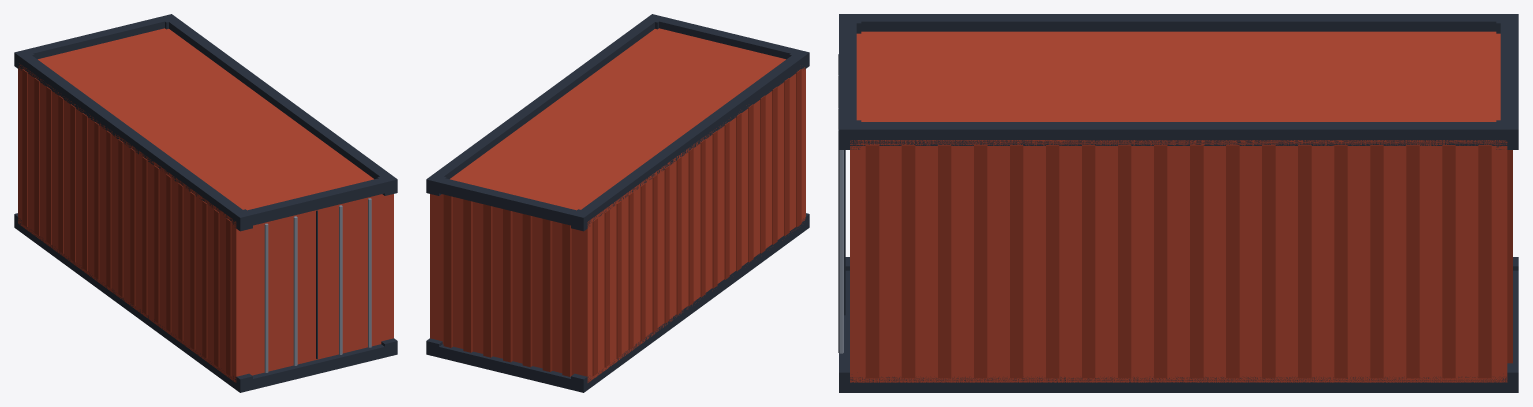
Rendered from container_red.glb.
3 views of the same model, side by side, from view 1: azimuth 30°, elevation 25°; view 2: azimuth 150°, elevation 25°; view 3: azimuth 270°, elevation 25° (orthographic). The views are drawn at different scales.
Parts seen in each view (by area): view 1: container; view 2: container; view 3: container.
Boxes of the visible parts, x1,y1,x2,y2 form: container: [14, 14, 397, 392]; container: [426, 14, 809, 392]; container: [838, 14, 1518, 392].
Size of the model in its own units: 2.46 by 2.59 by 6.07.
